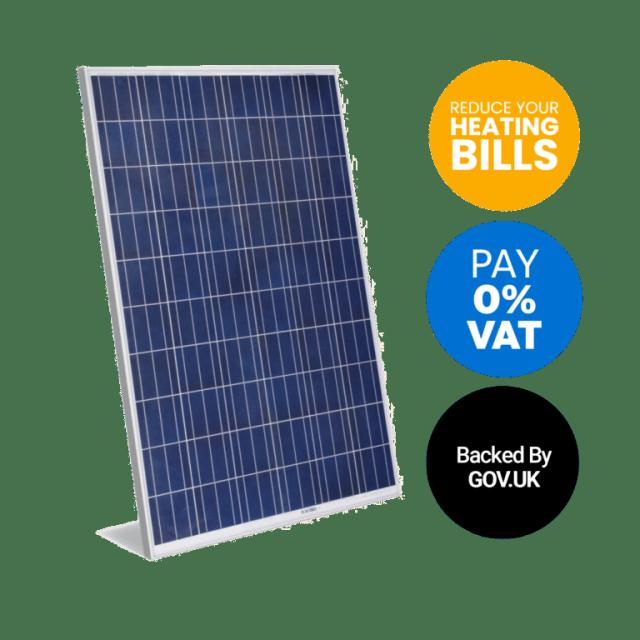clean-solar-panel: (78, 67, 400, 560)
